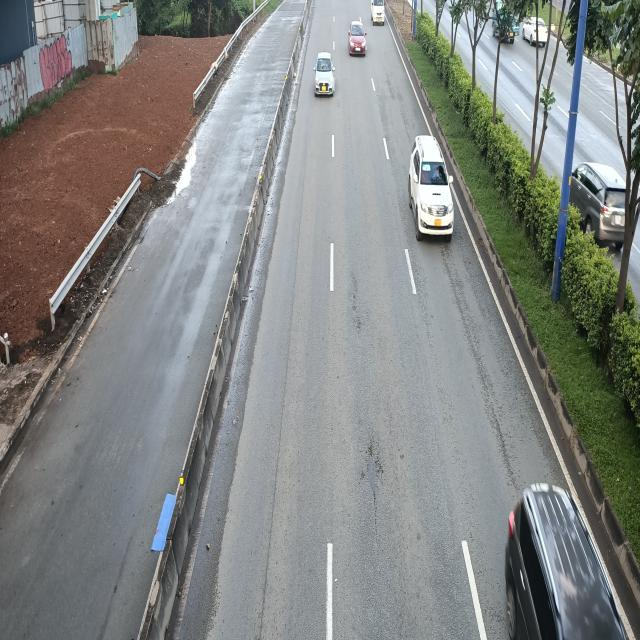car: (507, 484, 639, 640), (409, 138, 453, 244), (314, 52, 335, 97), (348, 22, 368, 57)
